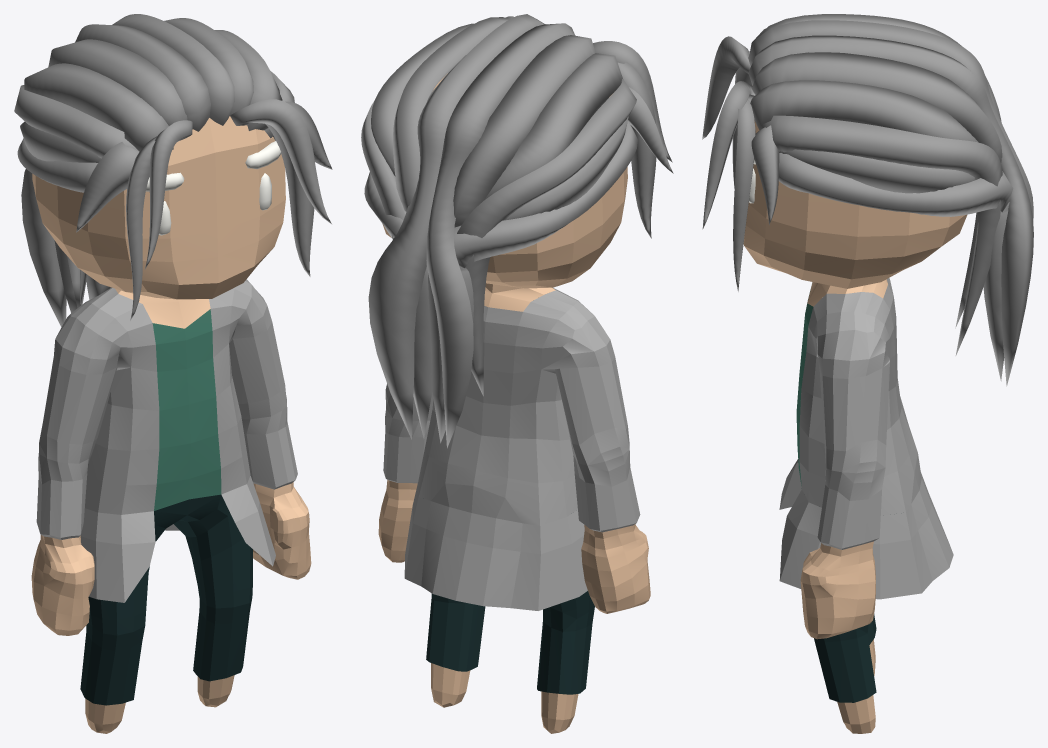
File: debout-doctor-female-old.glb
3 renders of one model, left to right at view 1: azimuth 30°, elevation 25°; view 2: azimuth 150°, elevation 25°; view 3: azimuth 270°, elevation 25°, orthographic.
Visible parts, largest first — view 1: CUNurbsPath010, CUNurbsPath010_3, CUNurbsPath010_2, CUNurbsPath010_5, CUNurbsPath010_4, CUNurbsPath010_1; view 2: CUNurbsPath010, CUNurbsPath010_3, CUNurbsPath010_2, CUNurbsPath010_5; view 3: CUNurbsPath010, CUNurbsPath010_3, CUNurbsPath010_2, CUNurbsPath010_5, CUNurbsPath010_4.
Part boxes in pixels (box(x1,y1,x2,y2)): CUNurbsPath010: box(14, 14, 332, 327); CUNurbsPath010_3: box(36, 279, 297, 602); CUNurbsPath010_2: box(31, 116, 311, 733); CUNurbsPath010_5: box(80, 494, 252, 705); CUNurbsPath010_4: box(152, 309, 221, 510); CUNurbsPath010_1: box(146, 141, 280, 235); CUNurbsPath010: box(361, 14, 673, 448); CUNurbsPath010_3: box(383, 288, 640, 610); CUNurbsPath010_2: box(378, 73, 650, 733); CUNurbsPath010_5: box(426, 591, 594, 694); CUNurbsPath010: box(702, 14, 1033, 386); CUNurbsPath010_3: box(779, 278, 953, 599); CUNurbsPath010_2: box(743, 120, 967, 733); CUNurbsPath010_5: box(814, 614, 876, 702); CUNurbsPath010_4: box(796, 291, 813, 485).
Size of the model in its own units: 0.6561 by 1.61 by 0.7157.
